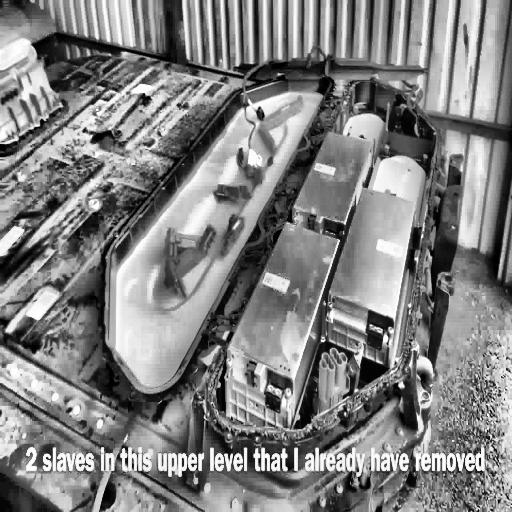b_casing: (0, 30, 445, 512)
battery_module: (225, 221, 340, 419), (326, 185, 416, 367), (294, 130, 372, 226)
busbar: (164, 218, 222, 300), (259, 92, 306, 156)
low_volt_cable: (237, 52, 282, 166)
